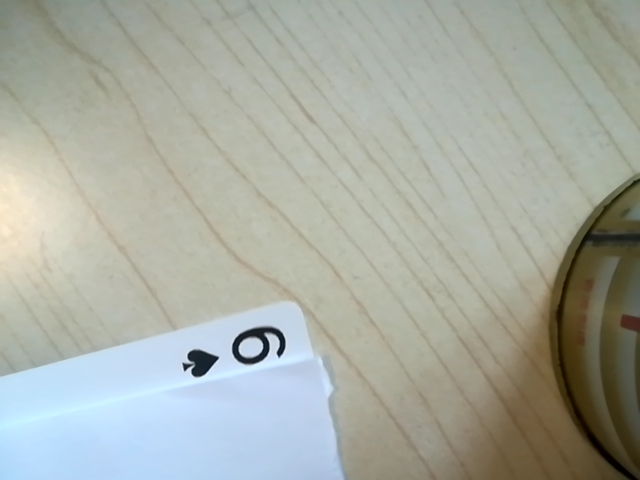ht 6: (164, 317, 302, 387)
